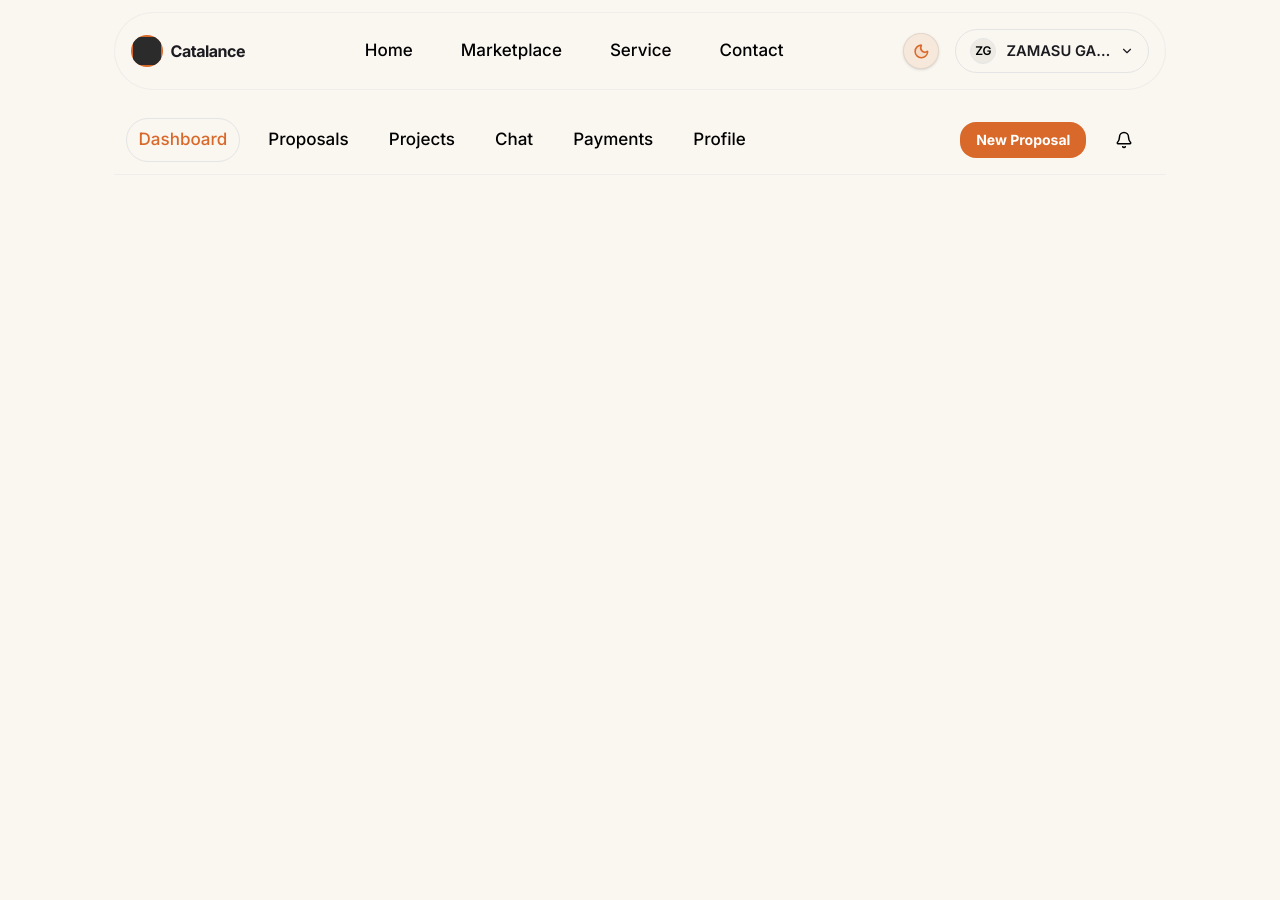
Scenario: workspace header dashboard switching › shows 'Switch to Freelancer' in the client header dropdown
The image size is (1280, 900).
Click the button "ZAMASU GAMING". click: (1052, 51)
box: [955,29,1149,73]
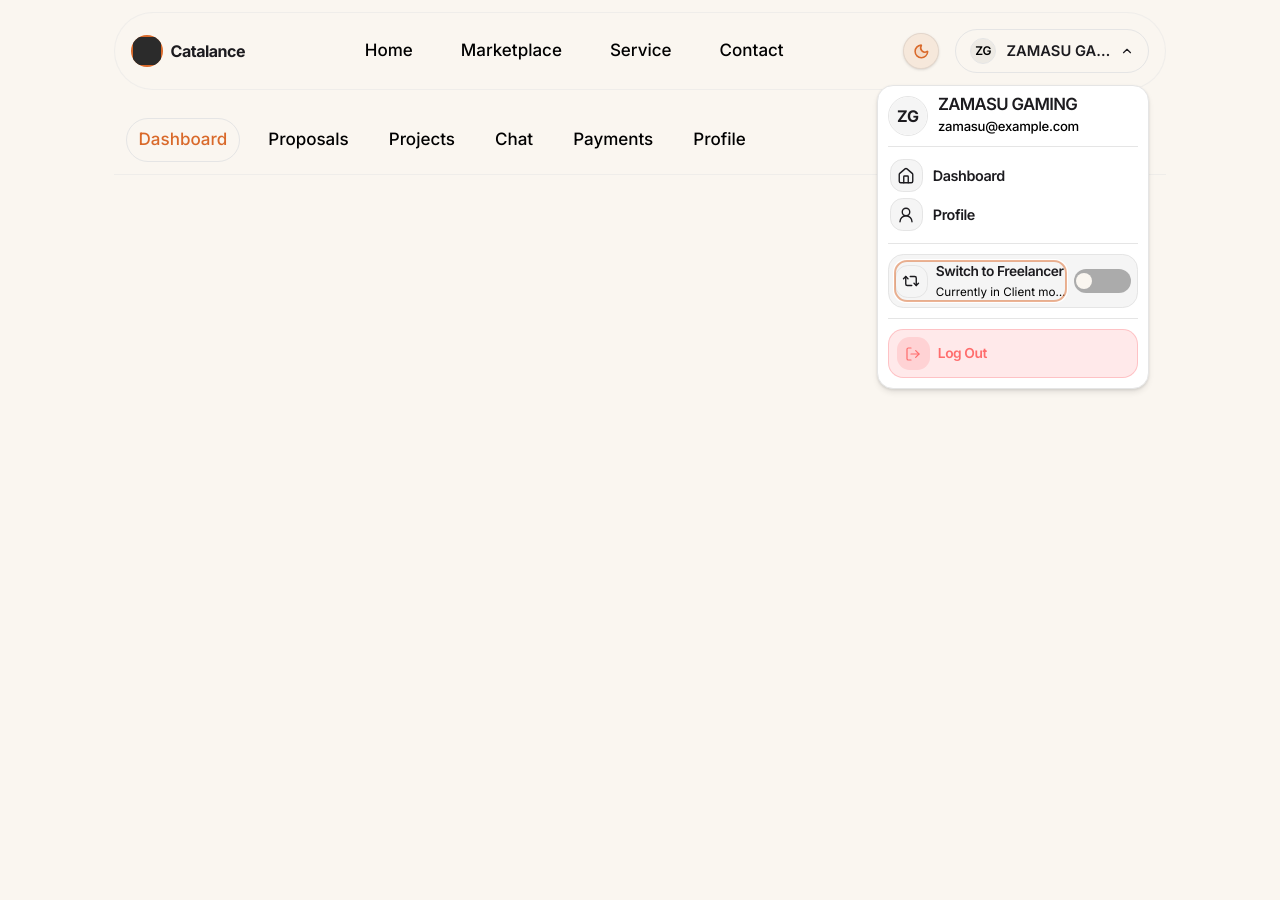
Check: the text "Switch to Freelancer" is shown, box [936,261,1066,282]
Check: the text "Currently in Client mode" is shown, box [936,284,1066,301]
